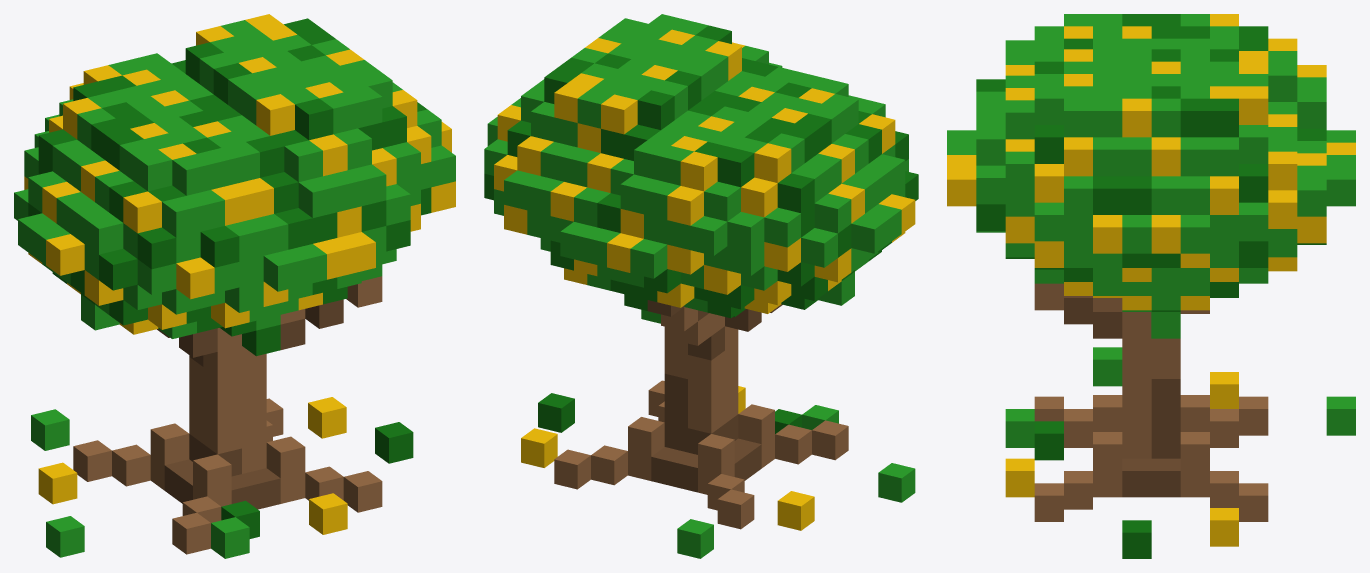
The model's file is Andres_Santiago_Duque_García_fase_3.obj.
The picture shows the model from 3 angles, left to right: view 1: azimuth 30°, elevation 25°; view 2: azimuth 150°, elevation 25°; view 3: azimuth 270°, elevation 25°; orthographic projection. The views are drawn at different scales.
Visible parts, largest first — view 1: Andres_Santiago_Duque_García_fase_3; view 2: Andres_Santiago_Duque_García_fase_3; view 3: Andres_Santiago_Duque_García_fase_3.
Boxes of the visible parts, x1,y1,x2,y2 form: Andres_Santiago_Duque_García_fase_3: [14, 14, 455, 558]; Andres_Santiago_Duque_García_fase_3: [484, 14, 918, 558]; Andres_Santiago_Duque_García_fase_3: [947, 14, 1355, 558].
Size of the model in its own units: 16 by 16 by 14.
1 material, 1 textured.
